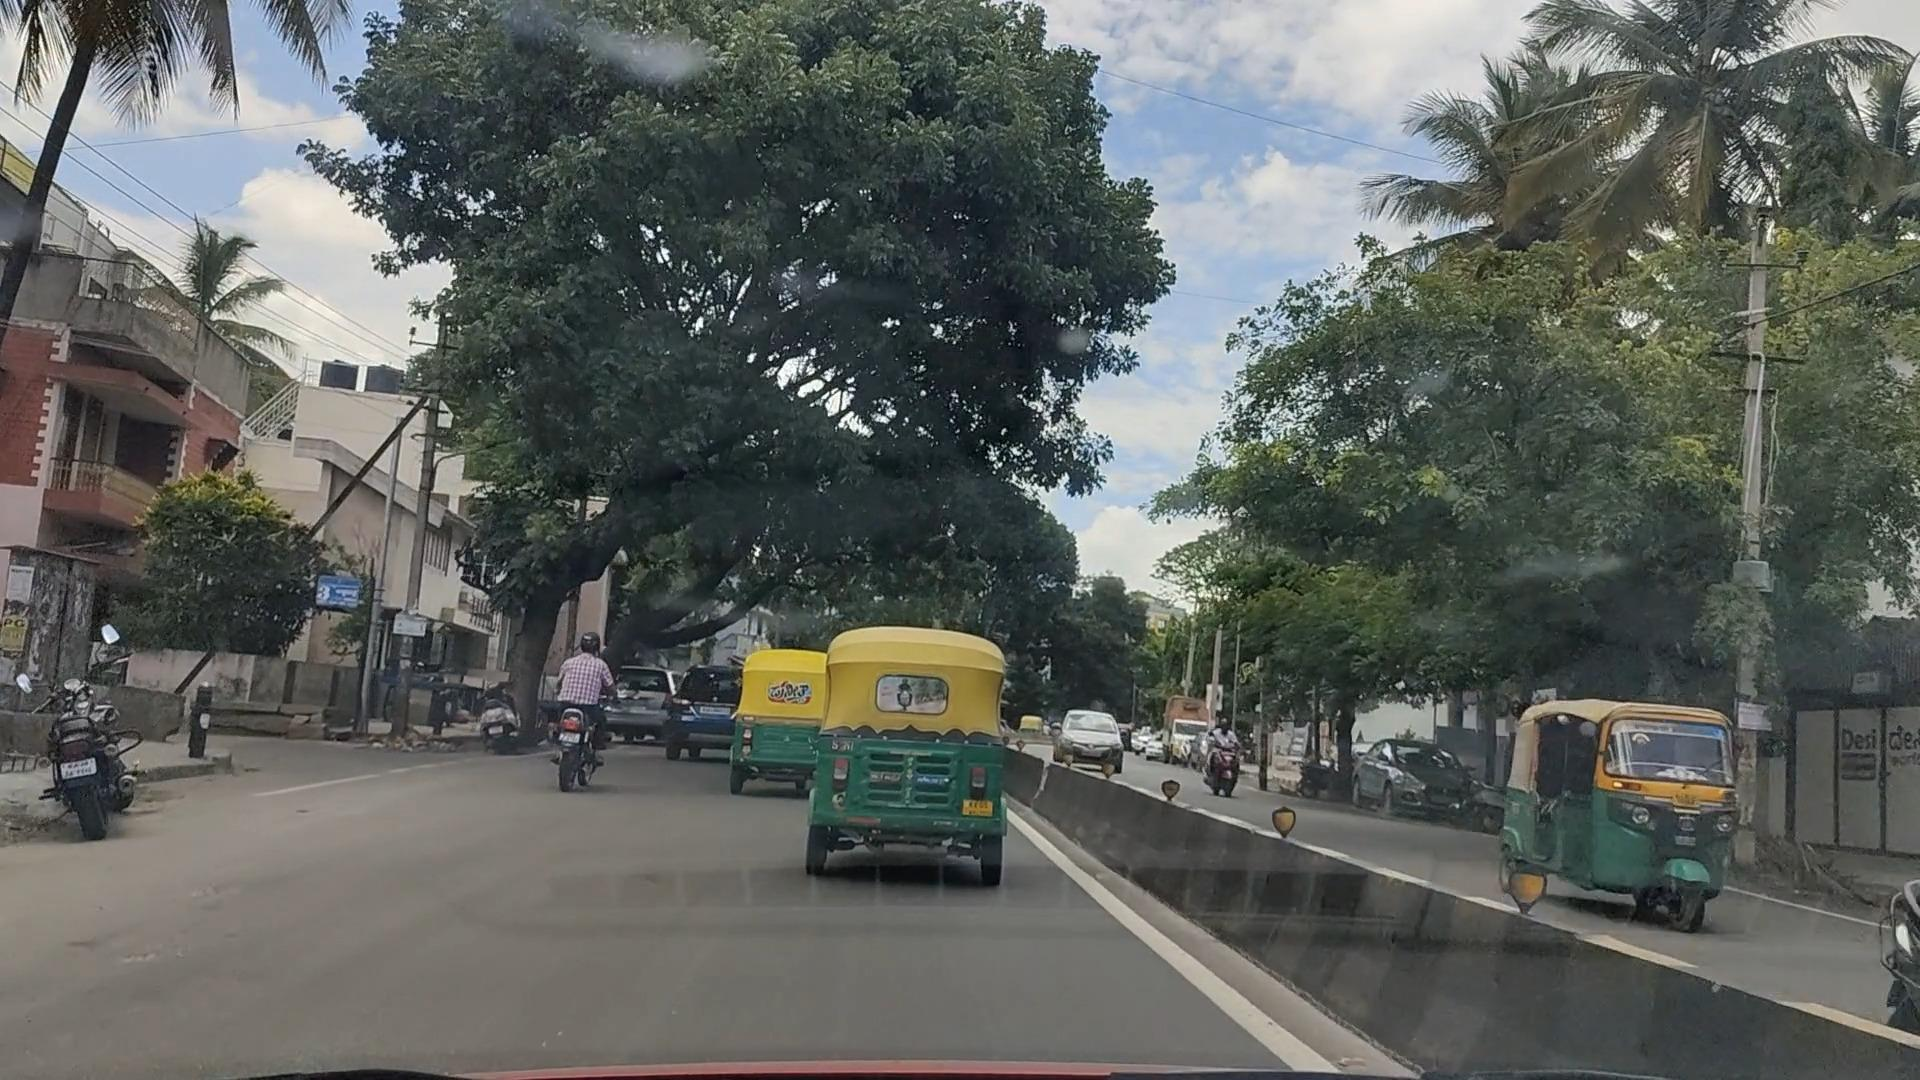LMV: (836, 618, 1019, 906), (725, 655, 839, 812), (541, 636, 620, 781)
RoadDamages: (41, 878, 222, 1005)
